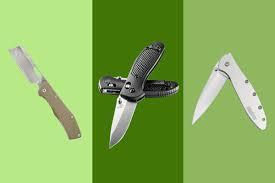Knife: (6, 44, 82, 149), (107, 42, 164, 149), (192, 52, 268, 132)
